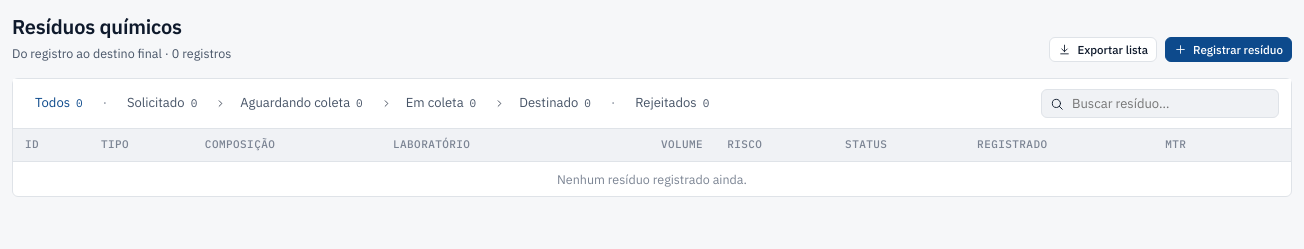
Scenario: ResiduosScreen — ciclo como stepper › mostra o ciclo em ordem e explica a etapa ativa
Expected: the button "Aguardando coleta 0" is shown, x1=230 y1=90 x2=373 y2=117
Click the button "Solicitado 0" at (162, 104), box x1=117 y1=90 x2=207 y2=117
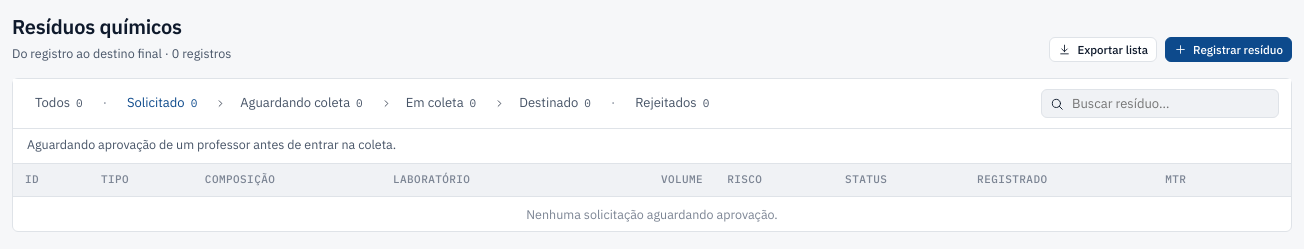
Now the text "Aguardando aprovação de um professor" is shown, box x1=27 y1=136 x2=396 y2=152
